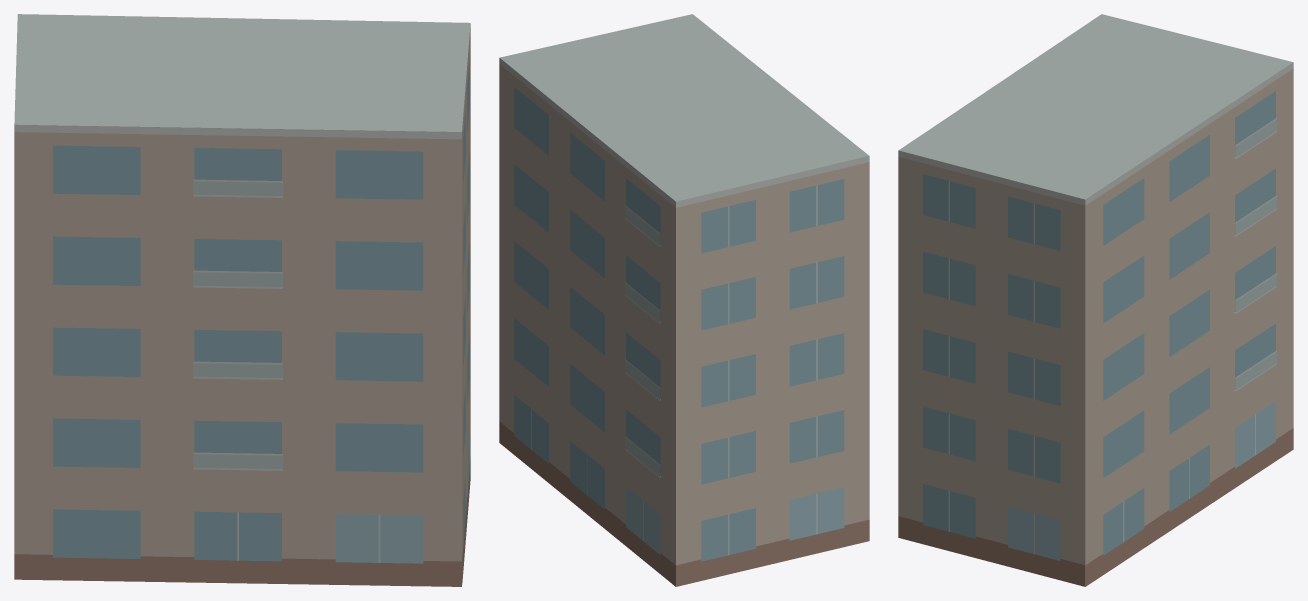
The model's file is survey-upis-32880988.glb.
The picture shows the model from 3 angles, left to right: view 1: azimuth 30°, elevation 25°; view 2: azimuth 150°, elevation 25°; view 3: azimuth 270°, elevation 25°; orthographic projection. The views are drawn at different scales.
Parts seen in each view (by area): view 1: survey-upis-32880988.tmp; view 2: survey-upis-32880988.tmp; view 3: survey-upis-32880988.tmp.
Boxes of the visible parts, <box> form: survey-upis-32880988.tmp: <box>14,14,470,586</box>; survey-upis-32880988.tmp: <box>499,14,869,586</box>; survey-upis-32880988.tmp: <box>898,14,1293,586</box>.
Size of the model in its own units: 15.52 by 15.1 by 13.97.
